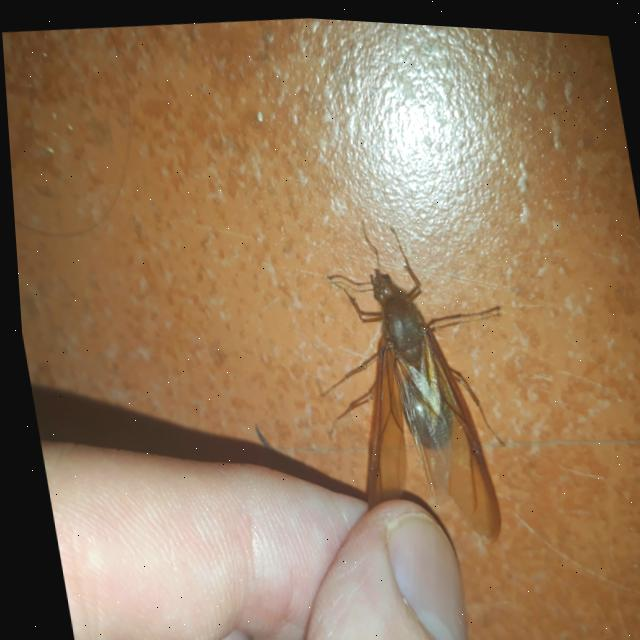Alive-Male-Alate: (285, 198, 534, 557)
